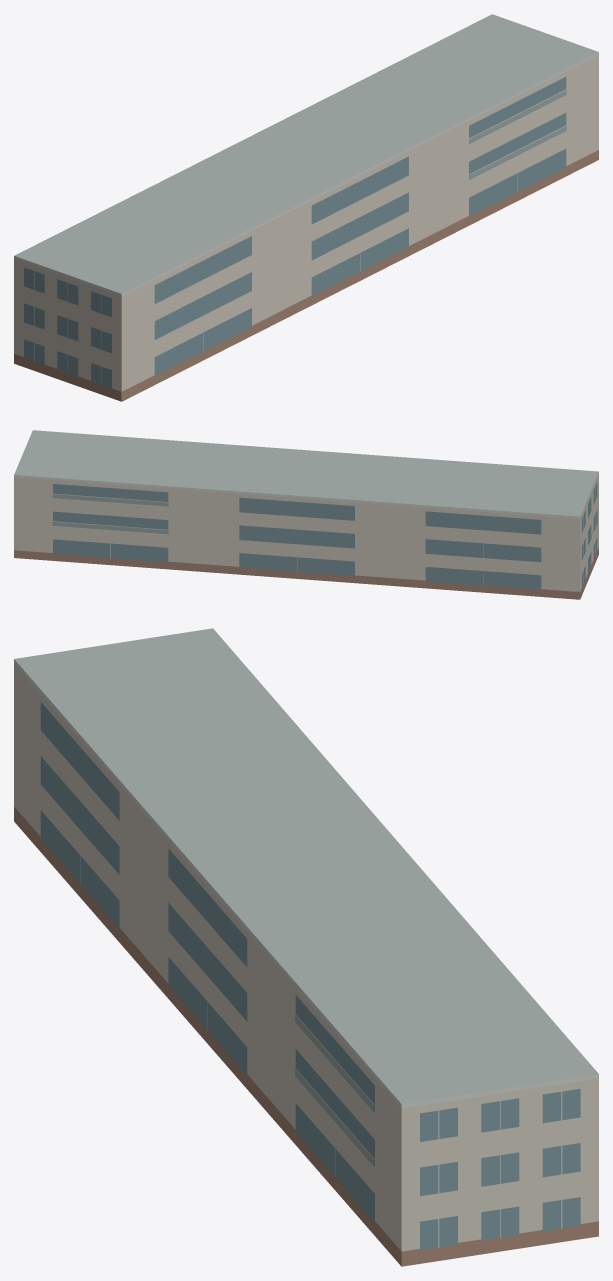
The model's file is survey-upis-32548599.glb.
3 renders of one model, top to bottom at view 1: azimuth 30°, elevation 25°; view 2: azimuth 150°, elevation 25°; view 3: azimuth 270°, elevation 25°, orthographic. The views are drawn at different scales.
Visible parts, largest first — view 1: survey-upis-32548599.tmp; view 2: survey-upis-32548599.tmp; view 3: survey-upis-32548599.tmp.
Boxes of the visible parts, left/top/right/bottom form: survey-upis-32548599.tmp: left=14, top=14, right=598, bottom=401; survey-upis-32548599.tmp: left=14, top=430, right=598, bottom=599; survey-upis-32548599.tmp: left=14, top=628, right=598, bottom=1266.
Size of the model in its own units: 57.5 by 9.15 by 29.86.
